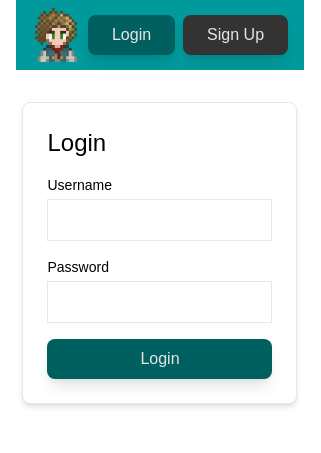
Test case: Login Page › should display an error on invalid credentials
Step 1. Type "wronguser" into the field labelled "Username" → (160, 220), box left=48, top=199, right=272, bottom=241
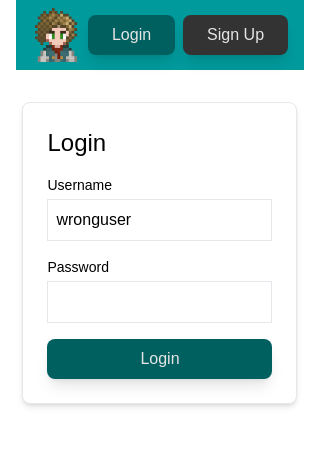
Step 2. Type "wrongpass" into the password field labelled "Password" → (160, 302), box left=48, top=281, right=272, bottom=323
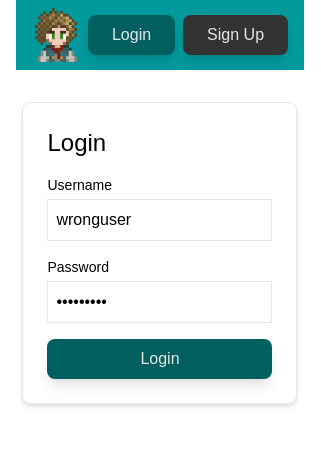
Step 3. Click the button with test id "login-button" → (160, 359), box left=48, top=339, right=272, bottom=379
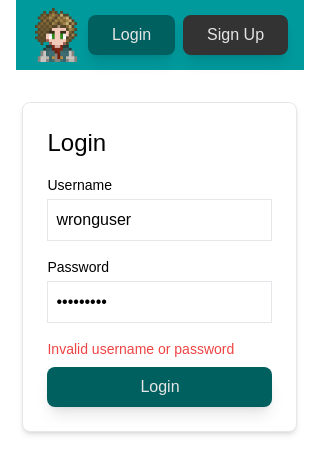
Now the text "Invalid username or password" is shown, box left=48, top=341, right=234, bottom=357
